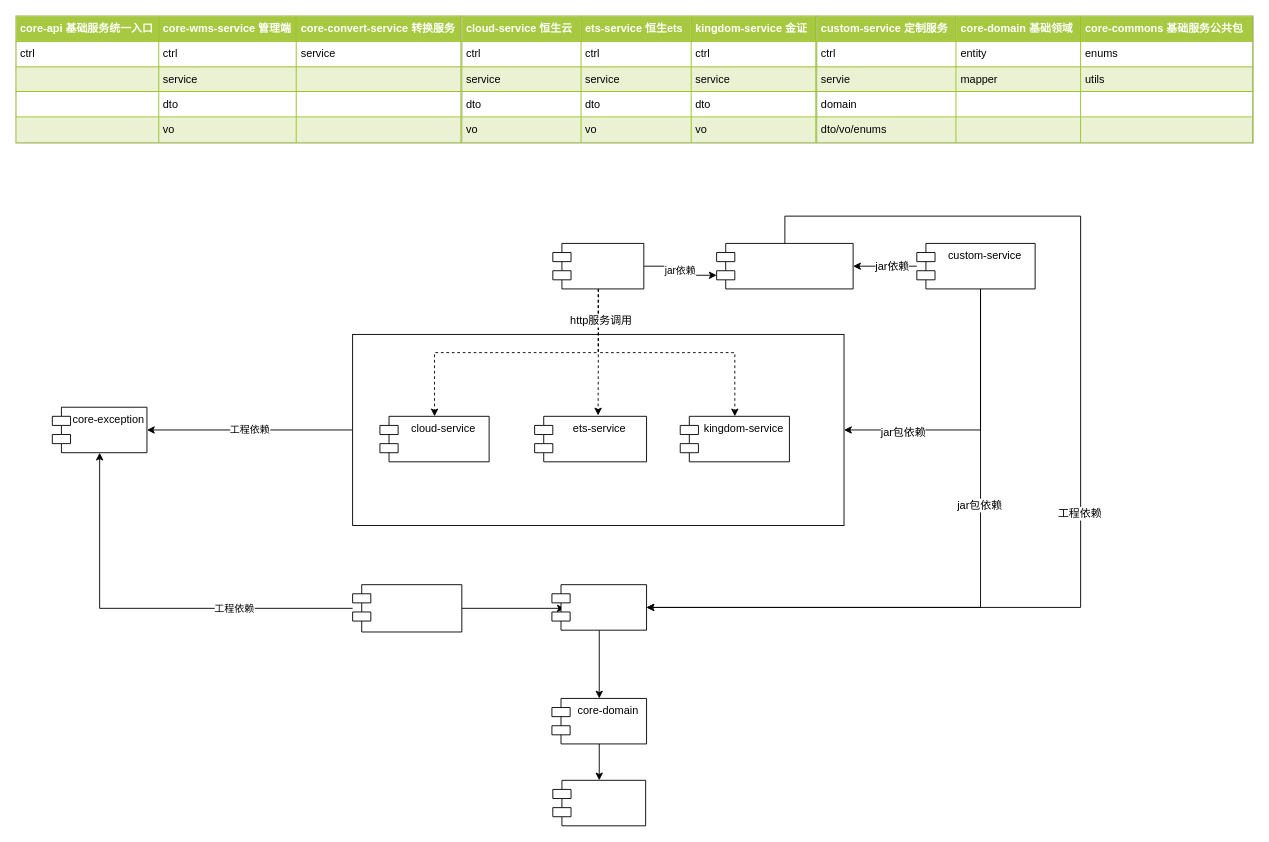
Image size: 1269x842. Some labels were removed from this diagram. Here are the shapes that lost their labels. From the top down, the centre of each, then its label:
the point at 598,266: core-api
the point at 784,266: core-convert-service
the point at 407,608: core-wms
the point at 599,607: core-service
the point at 599,802: core-commons
